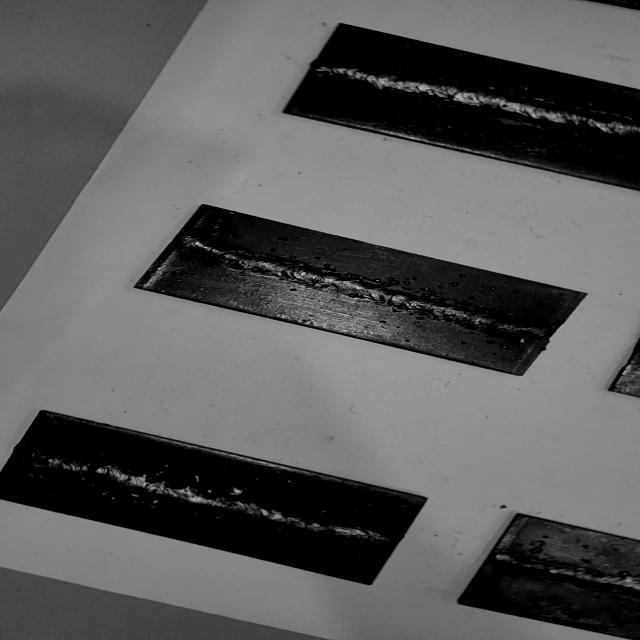Defect: (124, 467, 192, 511), (210, 479, 260, 505)
Welding Line: (175, 234, 559, 342), (11, 447, 392, 555), (310, 60, 640, 144), (480, 547, 640, 597)
Workpiece: (127, 202, 588, 376), (0, 408, 433, 587), (274, 21, 640, 192), (454, 511, 640, 640)
